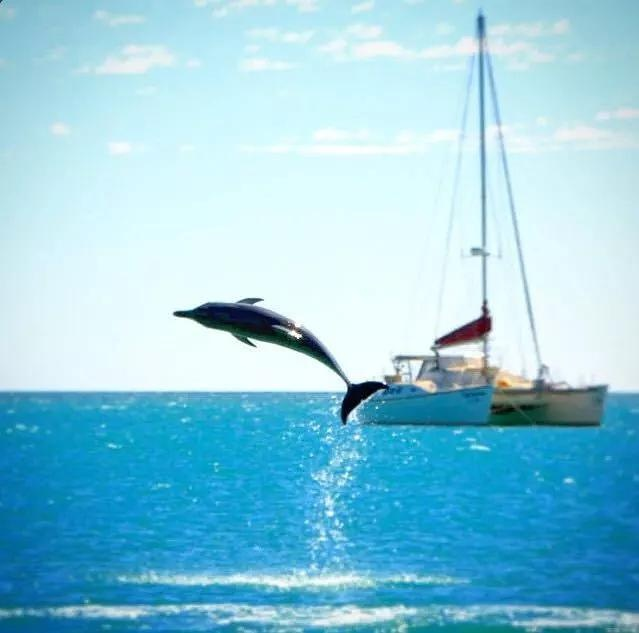fish: (172, 289, 389, 427)
